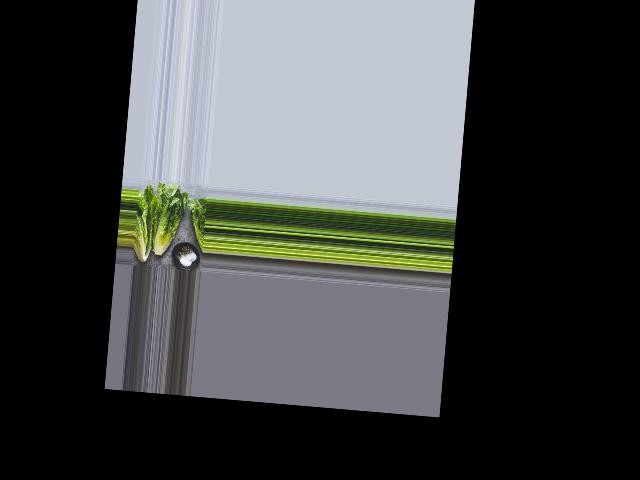lettuce: (132, 189, 158, 267)
